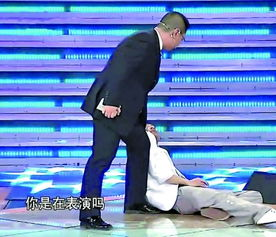fall: (132, 111, 276, 232)
